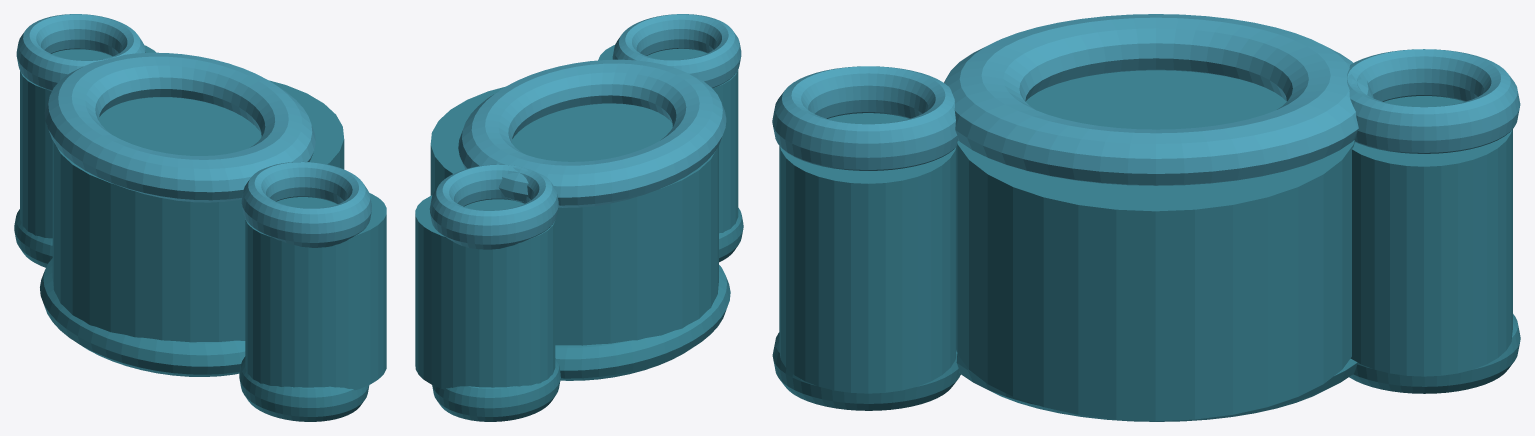
File: canogrande.fbx
3 renders of one model, left to right at view 1: azimuth 30°, elevation 25°; view 2: azimuth 150°, elevation 25°; view 3: azimuth 270°, elevation 25°, orthographic. The views are drawn at different scales.
Parts seen in each view (by area): view 1: Torus.002; view 2: Torus.002; view 3: Torus.002.
Part boxes in pixels (x1,y1,x2,y2): Torus.002: [14, 14, 386, 421]; Torus.002: [415, 14, 743, 421]; Torus.002: [772, 14, 1520, 421].
Bounding box in the file's own units: 2322 × 1872 × 4316.
